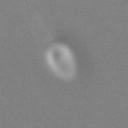normal: (14, 1, 53, 44)
